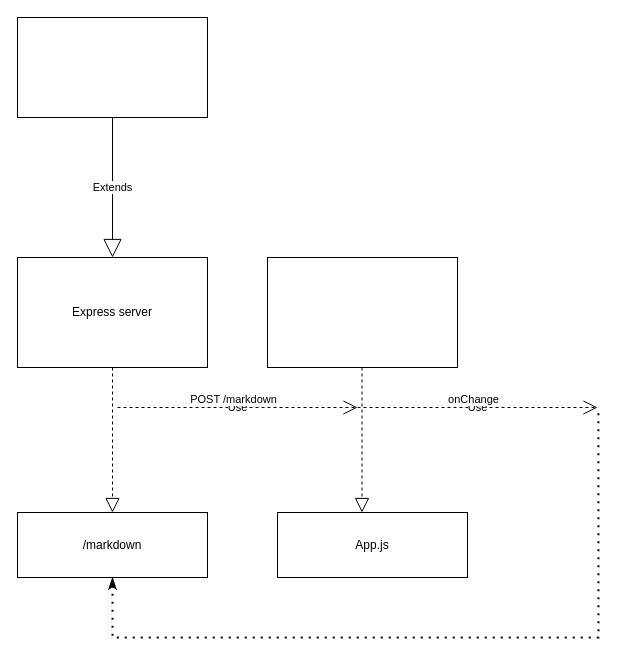
Image size: 629x664. Some labels were removed from this diagram. The shapes that lost their labels are listed below. From the top down, each one's box as (x1, y1, x2, y2) in pixels, then its label:
(16, 16, 208, 118): <<Interface>> MarkdownService + convertToHtml(): string
(266, 256, 458, 368): React Frontend
